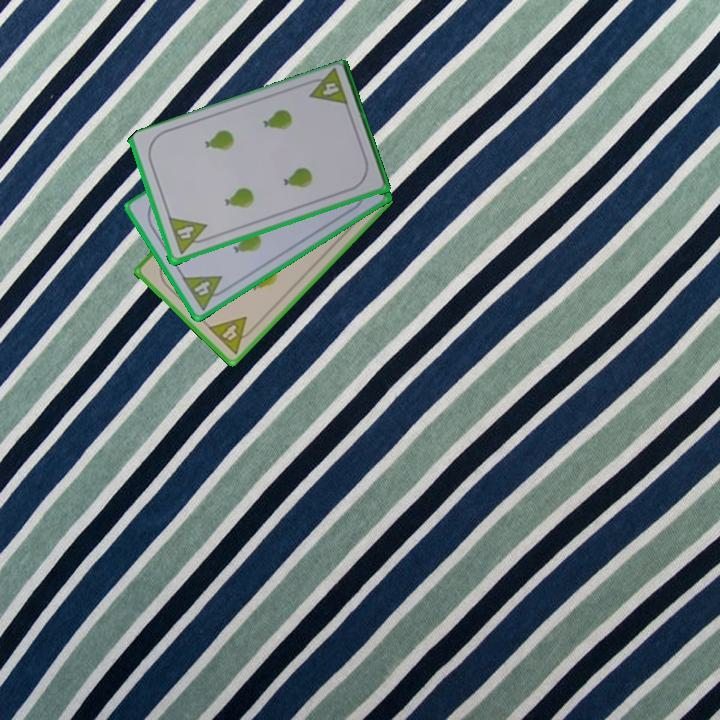4p: (204, 313, 259, 357), (179, 272, 232, 313), (167, 214, 208, 245), (318, 79, 342, 99)
